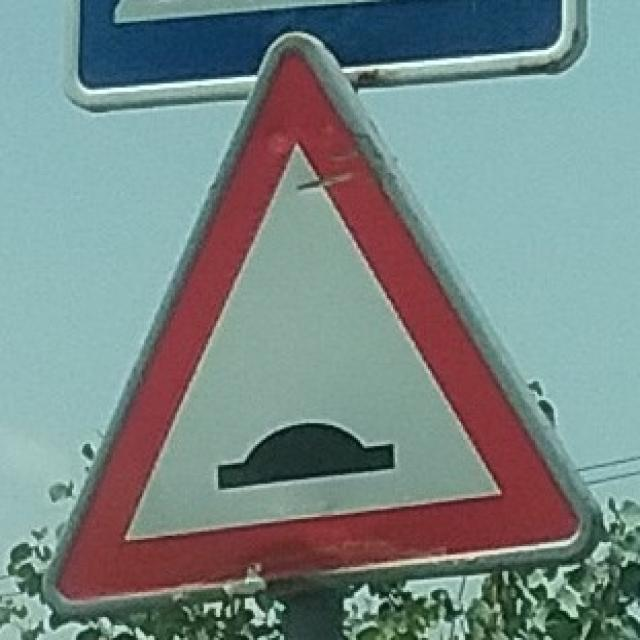HUMP_OR_ROUGH_ROAD: (43, 26, 616, 617)
